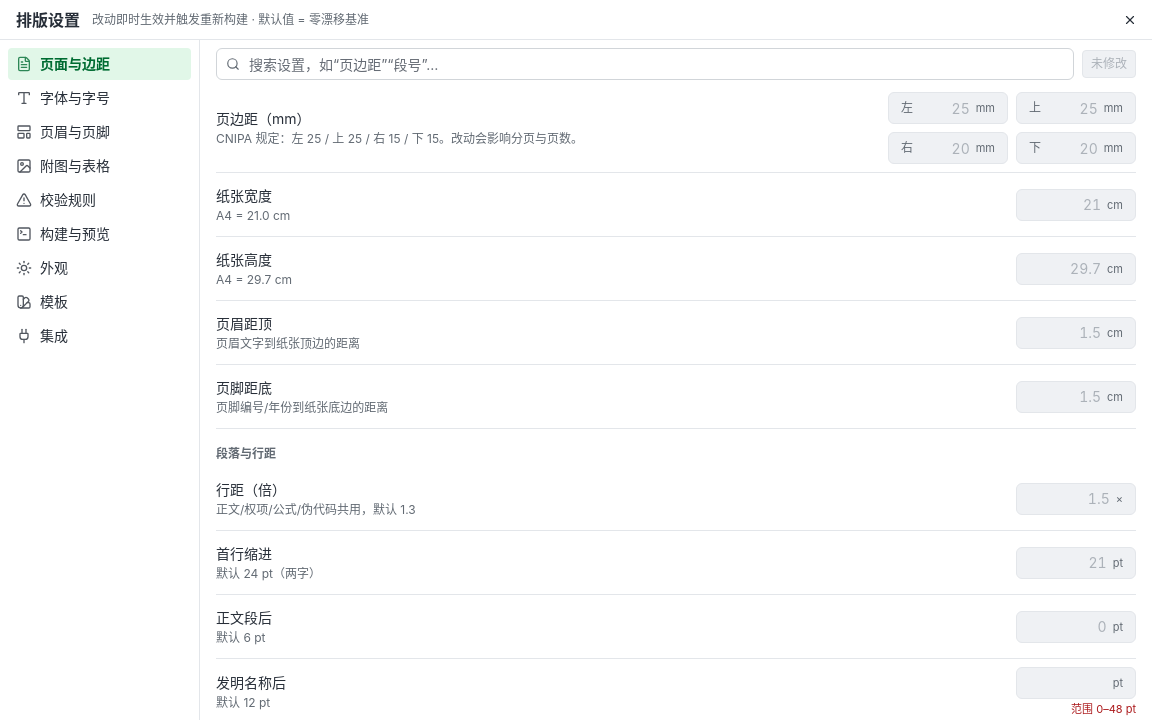
R7-01 六列 dock 把排版设置压到 150–193px：单列内不再横向裁切 › R59-01：viewer 打开排版设置——写 settings 的控件全 disabled（字段/导入/恢复默认），本机偏好仍可改
// 本机偏好（主题）不 PUT /settings——viewer 仍可改
Click the button with test id "settings-nav-appearance" at (100, 268), box top-left (8, 252), bottom-right (191, 284)
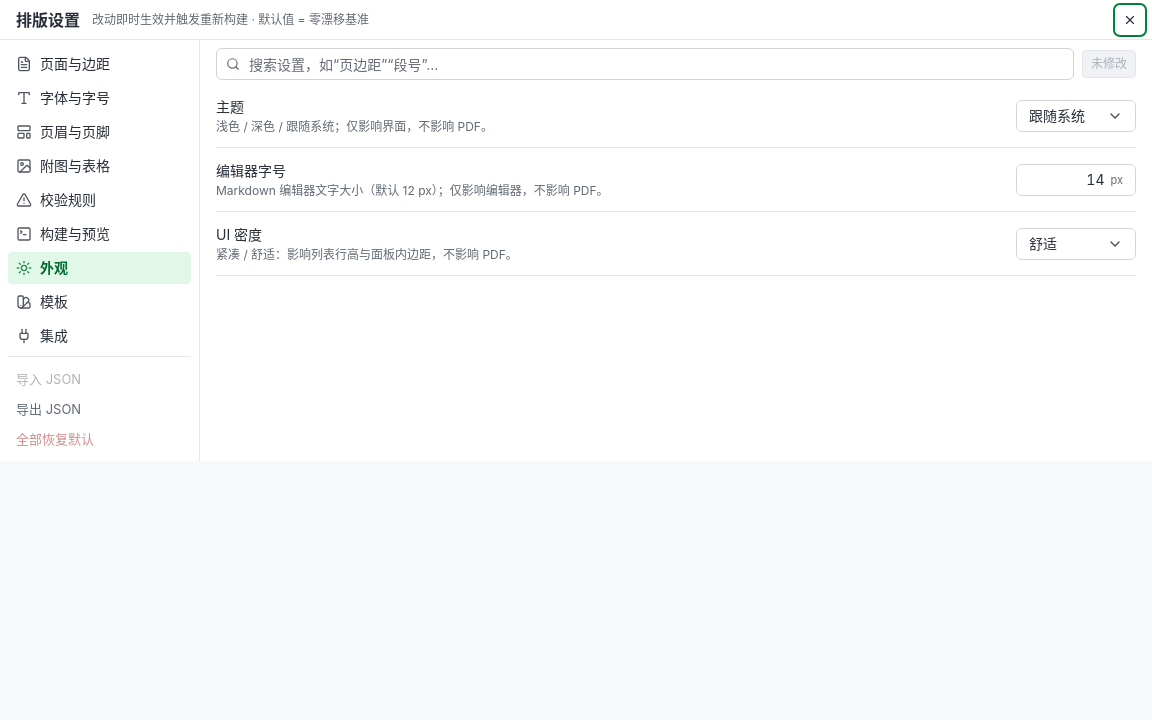
Result: the dropdown named "主题" is enabled at top-left (1016, 100), bottom-right (1136, 132)
